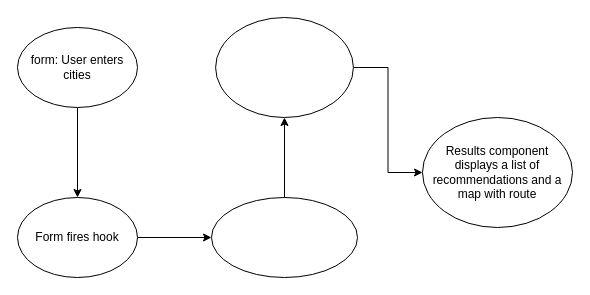
The diagram is 590 pixels wide and 295 high, and some of its shapes have lost their labels. Each missing label, with the box of its shape:
API validates input and returns response: (210, 196, 358, 278)
Client receives response and updates state in results component: (215, 16, 353, 118)
